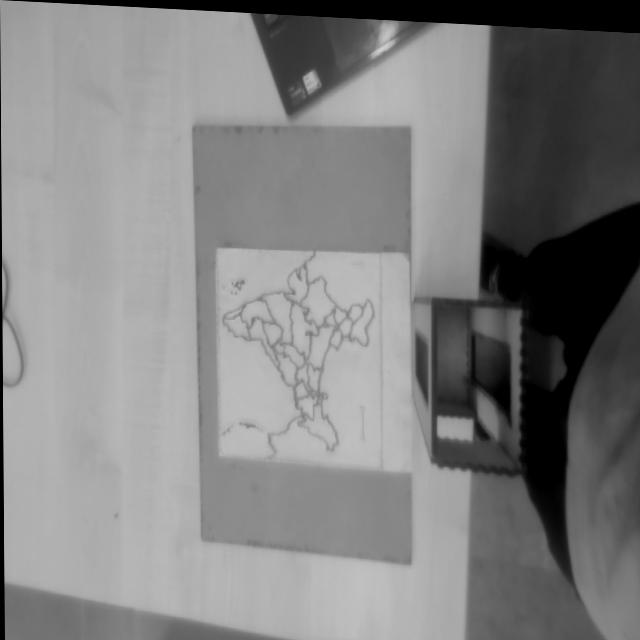map: (216, 246, 382, 472)
